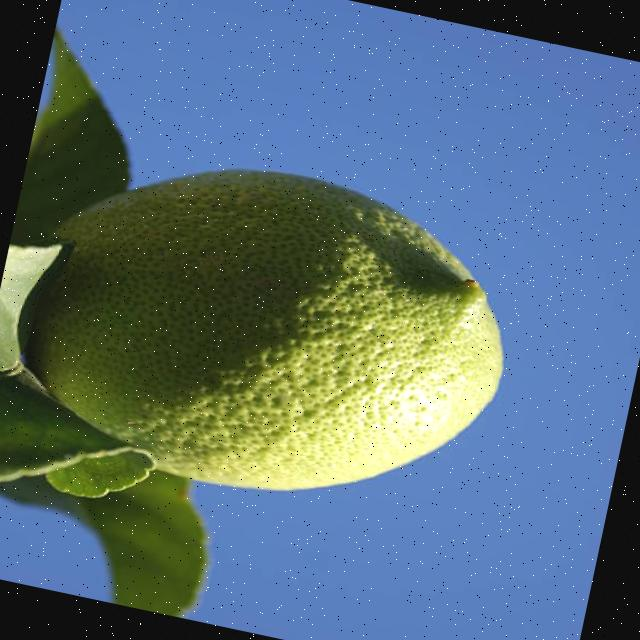Unripe: (1, 125, 534, 538)
